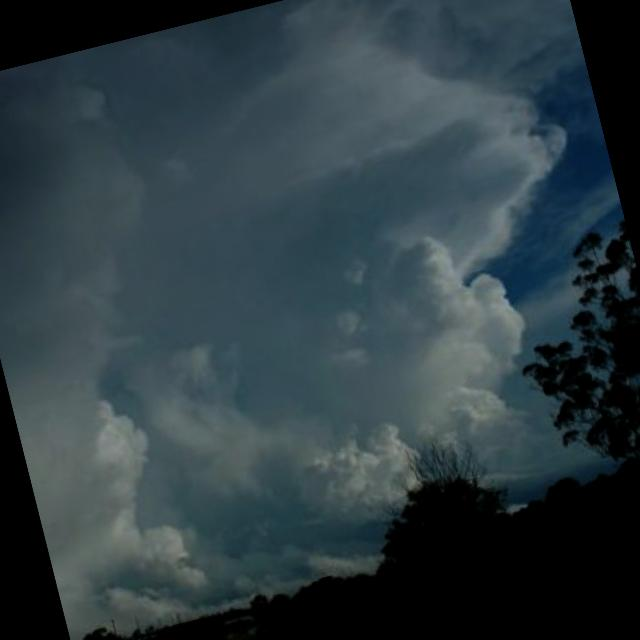Cb: (1, 1, 638, 467)
